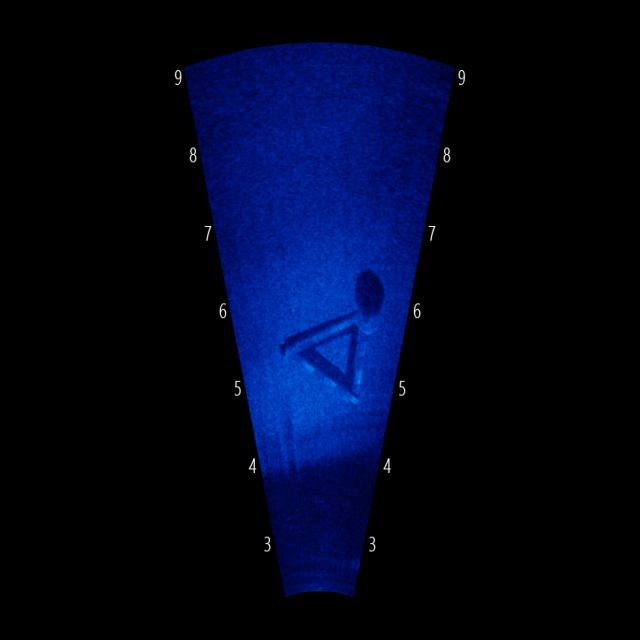triangle: (276, 294, 374, 412)
